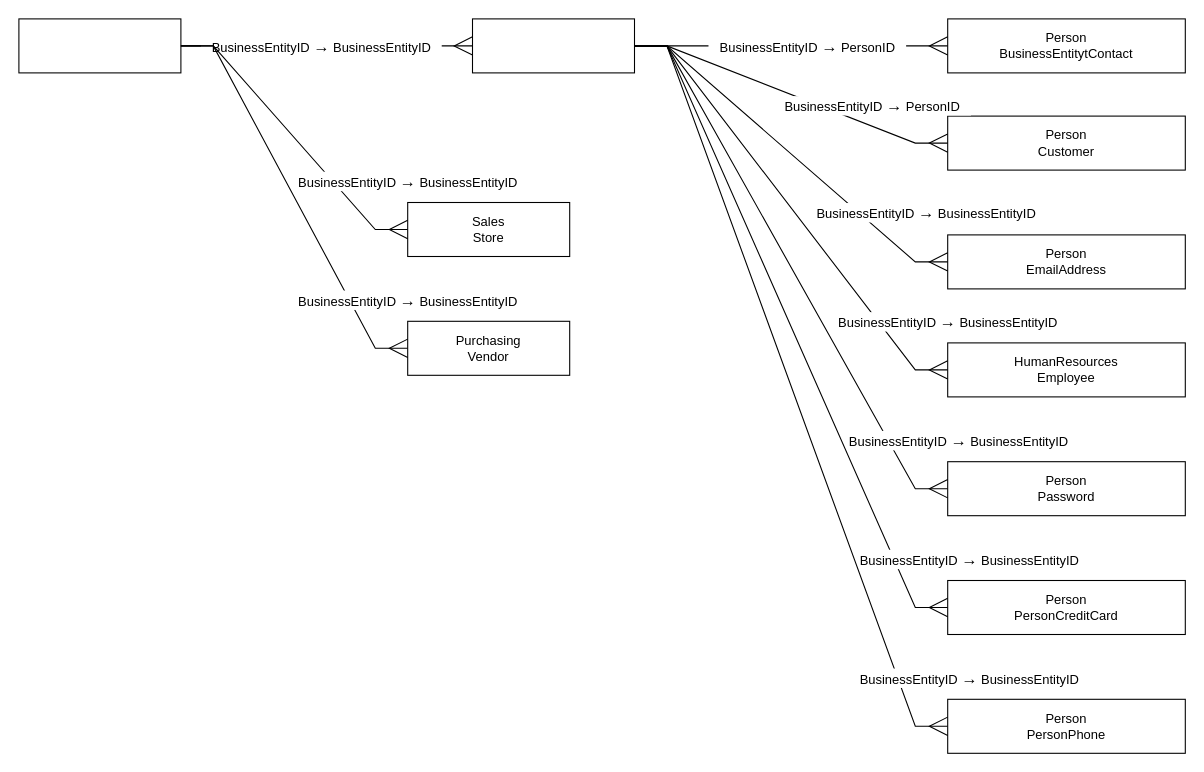
The diagram is 1204 pixels wide and 772 high, and some of its shapes have lost their labels. The shapes that lost their labels are listed below. From the top down, each one's centre as x and y in pixels, then its label:
pixel 99 45: Person BusinessEntity
pixel 552 45: Person Person
